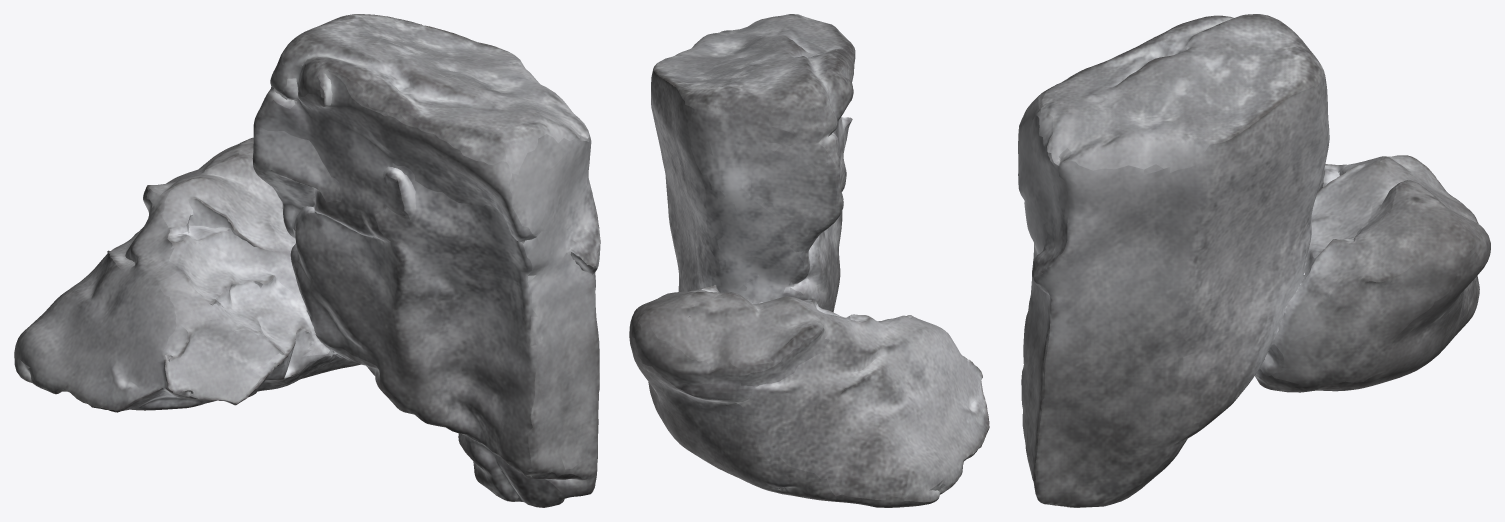
3 renders of one model, left to right at view 1: azimuth 30°, elevation 25°; view 2: azimuth 150°, elevation 25°; view 3: azimuth 270°, elevation 25°, orthographic. The views are drawn at different scales.
Visible parts, largest first — view 1: world; view 2: world; view 3: world.
Boxes of the visible parts, x1,y1,x2,y2 form: world: (14,14,600,507); world: (629,14,989,507); world: (1018,14,1490,507).
Bounding box in the file's own units: 1.49 × 1.5 × 1.53.
Materials: 1 (1 with a texture image).
